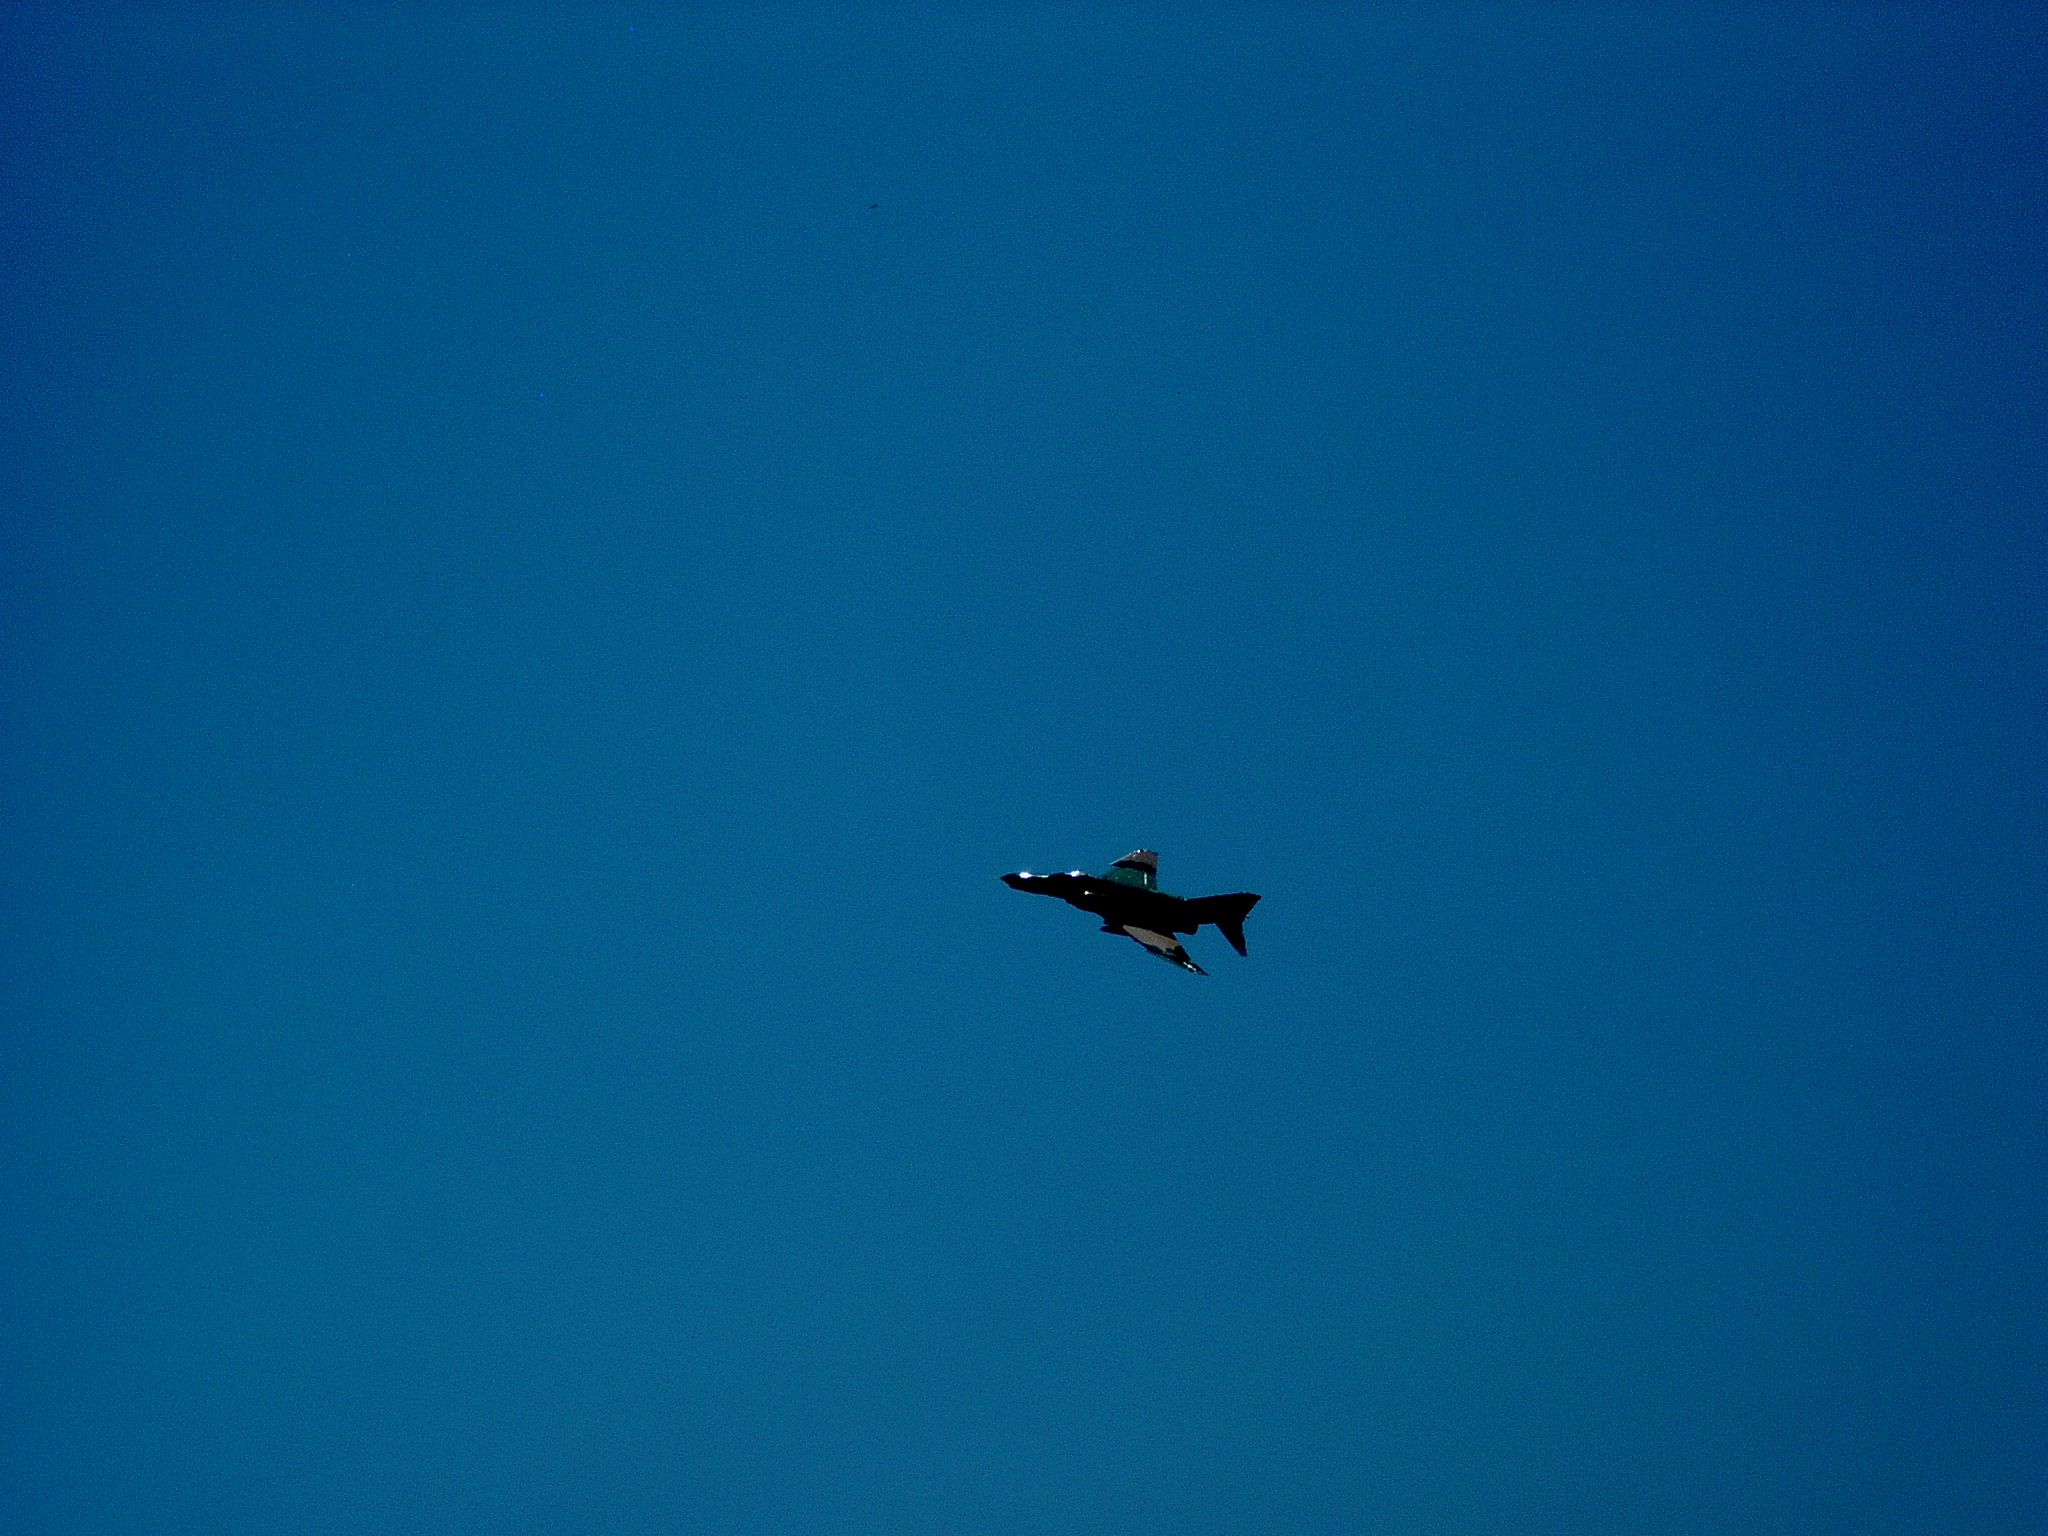F4: (992, 849, 1263, 978)
